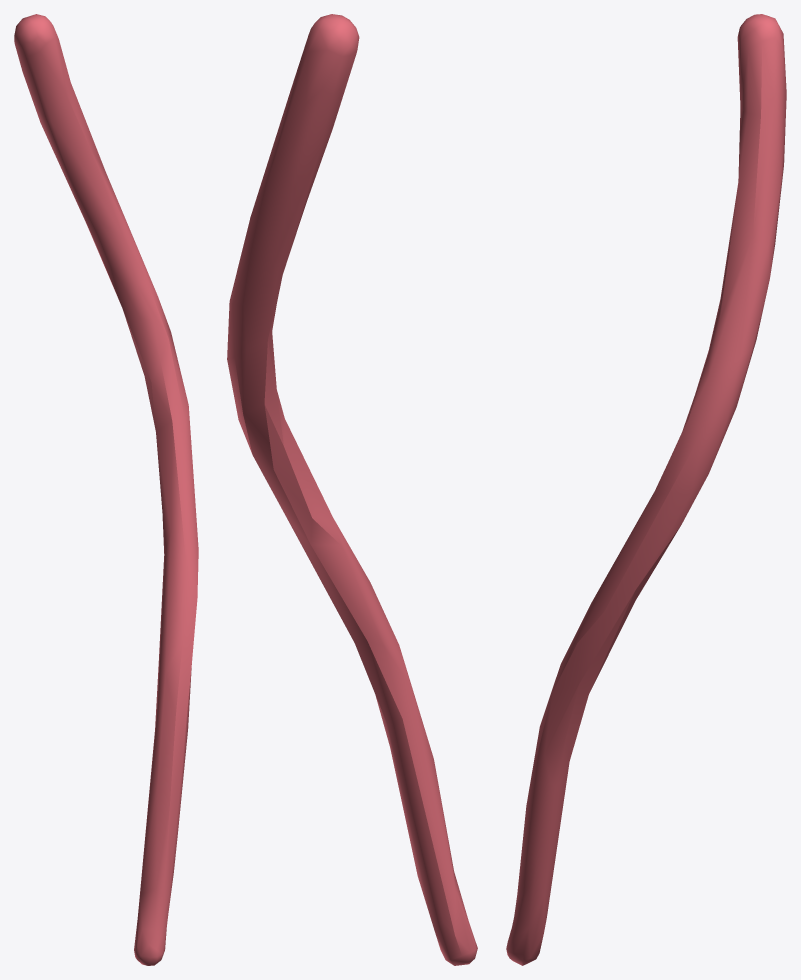
The model's file is fma49758_fj5169.glb.
The picture shows the model from 3 angles, left to right: view 1: azimuth 30°, elevation 25°; view 2: azimuth 150°, elevation 25°; view 3: azimuth 270°, elevation 25°; orthographic projection. The views are drawn at different scales.
Parts seen in each view (by area): view 1: FMA49758_FJ5169; view 2: FMA49758_FJ5169; view 3: FMA49758_FJ5169.
Part boxes in pixels (left/top/right/bottom): FMA49758_FJ5169: left=14, top=14, right=198, bottom=965; FMA49758_FJ5169: left=227, top=14, right=477, bottom=965; FMA49758_FJ5169: left=506, top=14, right=786, bottom=965.
Bounding box in the file's own units: 0.00461 × 0.0296 × 0.00798.
